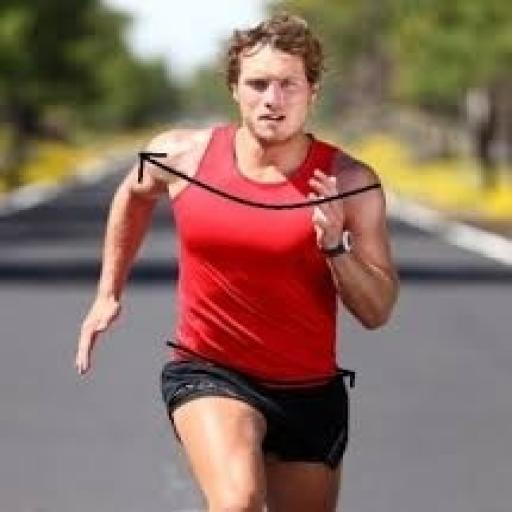running: (71, 11, 405, 510)
